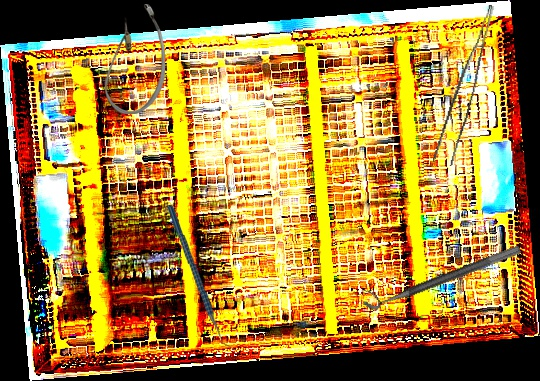Cannula: (105, 4, 165, 114)
Chopper: (166, 202, 236, 354)
Fixation Ring: (358, 232, 522, 314)
Tissue Forceps: (432, 0, 495, 168)
